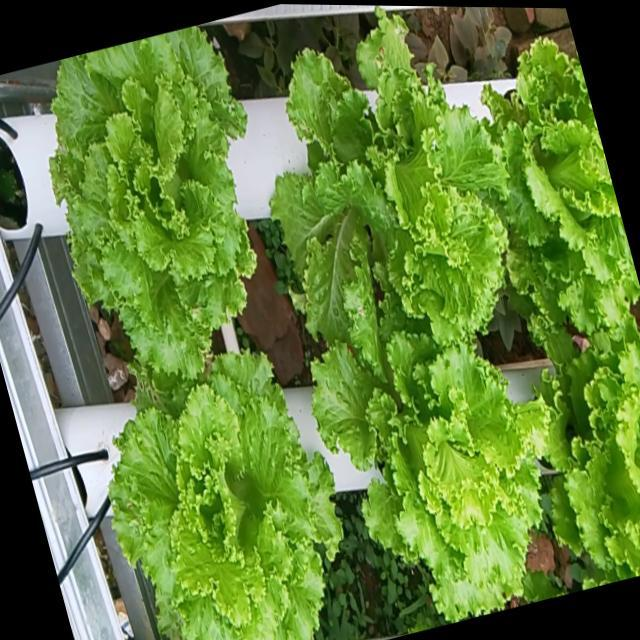Mature: (232, 9, 508, 337), (47, 25, 254, 381), (310, 327, 546, 621), (107, 348, 340, 640), (481, 34, 640, 330), (539, 302, 640, 583)
